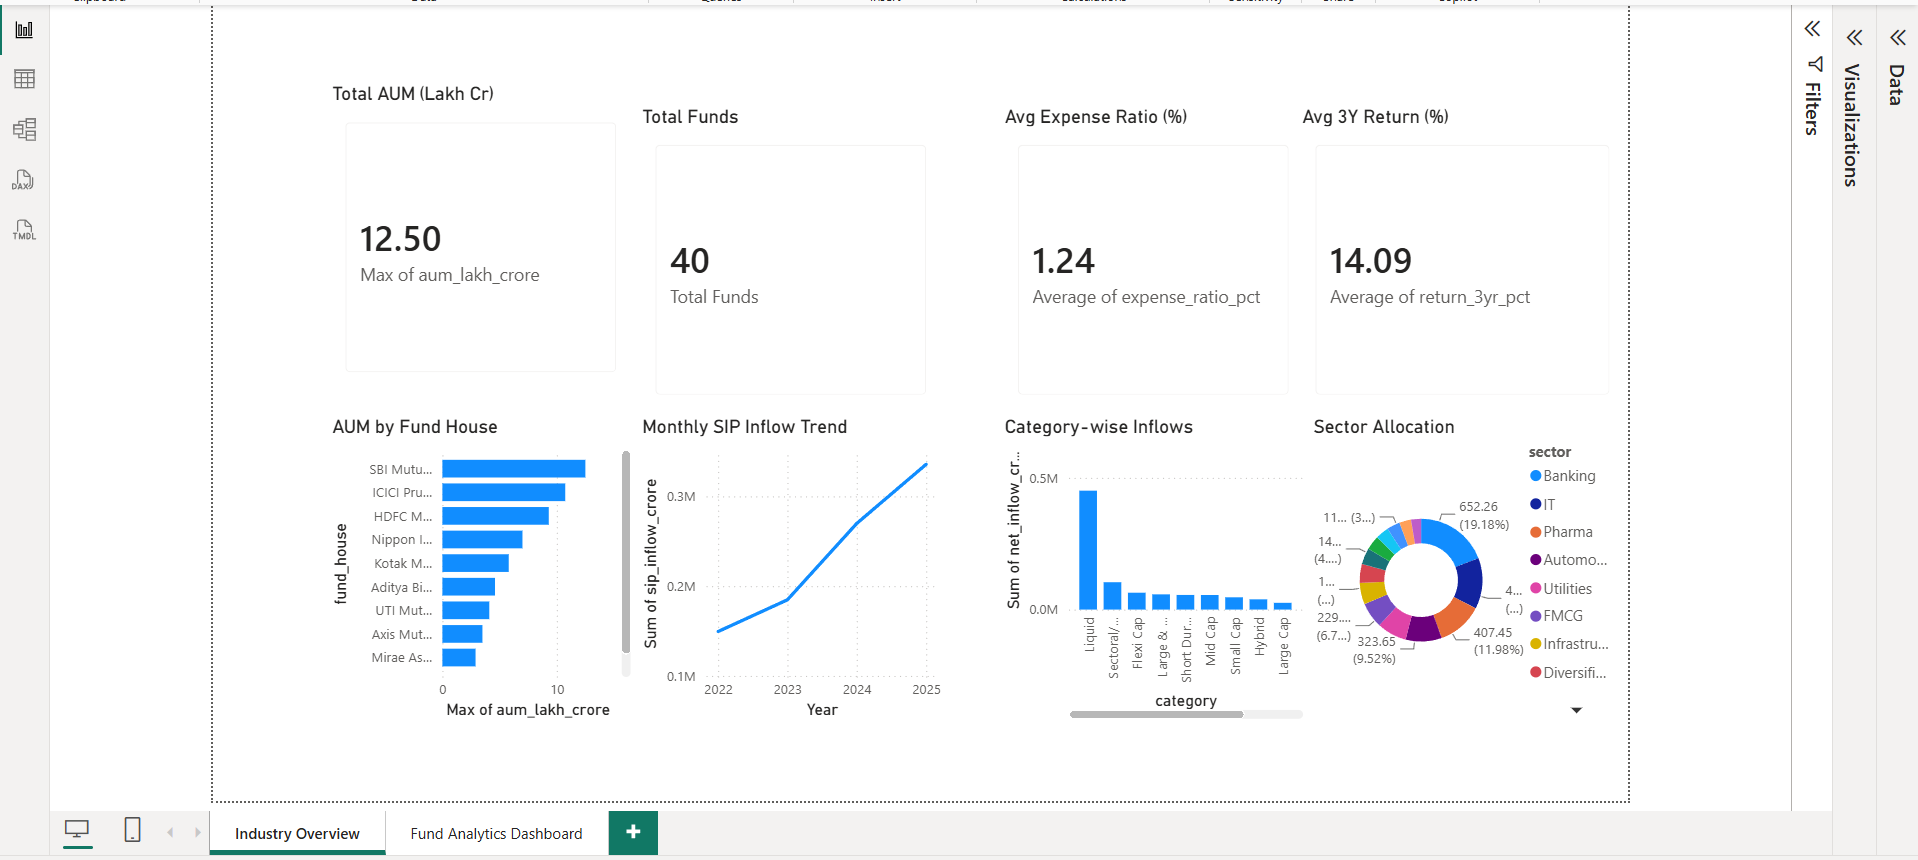

What the dashboard file says about the page in this screenshot:
{"tool":"powerbi","page":{"name":"Industry Overview","canvas":[1280,720],"ordinal":0},"visuals":[{"type":"cardVisual","title":"Total AUM (Lakh Cr)","fields":{"Data":["Max(03_aum_by_fund_house.aum_lakh_crore)"]},"box":[102.9,70,279.9,279.9],"z":0},{"type":"cardVisual","title":"Avg Expense Ratio (%)","fields":{"Data":["Avg(cleaned_performance.expense_ratio_pct)"]},"box":[710.8,90.6,279.9,279.9],"z":1000},{"type":"cardVisual","title":"Avg 3Y Return (%)","fields":{"Data":["Avg(cleaned_performance.return_3yr_pct)"]},"box":[979.8,90.6,300.5,279.9],"z":2000},{"type":"cardVisual","title":"Total Funds","fields":{"Data":["01_fund_master.Total Funds"]},"box":[382.8,90.6,279.9,279.9],"z":3000},{"type":"clusteredBarChart","title":"AUM by Fund House","fields":{"Category":["03_aum_by_fund_house.fund_house"],"Y":["Max(03_aum_by_fund_house.aum_lakh_crore)"]},"box":[103,371,280,280],"z":4000},{"type":"lineChart","title":"Monthly SIP Inflow Trend","fields":{"Category":["04_monthly_sip_inflows.month.Variation.Date Hierarchy.Year","04_monthly_sip_inflows.month.Variation.Date Hierarchy.Quarter","04_monthly_sip_inflows.month.Variation.Date Hierarchy.Month","04_monthly_sip_inflows.month.Variation.Date Hierarchy.Day"],"Y":["Sum(04_monthly_sip_inflows.sip_inflow_crore)"]},"box":[383,371,280,280],"z":5000},{"type":"clusteredColumnChart","title":"Category-wise Inflows","fields":{"Category":["05_category_inflows.category"],"Y":["Sum(05_category_inflows.net_inflow_crore)"]},"box":[711,371,280,280],"z":6000},{"type":"donutChart","title":"Sector Allocation","fields":{"Category":["09_portfolio_holdings.sector"],"Y":["Sum(09_portfolio_holdings.weight_pct)"]},"box":[991,371,289,280],"z":7000}]}

Visuals, with their boxes on the page's 1280x720 design canvas (x1, y1, x2, y2). These are canvas units, not pixel positions in the 1918x860 screenshot, which may show the page scaled, cropped or inside an application window:
"Total AUM (Lakh Cr)" cardVisual: 103/70/383/350
"Avg Expense Ratio (%)" cardVisual: 711/91/991/370
"Avg 3Y Return (%)" cardVisual: 980/91/1280/370
"Total Funds" cardVisual: 383/91/663/370
"AUM by Fund House" clusteredBarChart: 103/371/383/651
"Monthly SIP Inflow Trend" lineChart: 383/371/663/651
"Category-wise Inflows" clusteredColumnChart: 711/371/991/651
"Sector Allocation" donutChart: 991/371/1280/651
